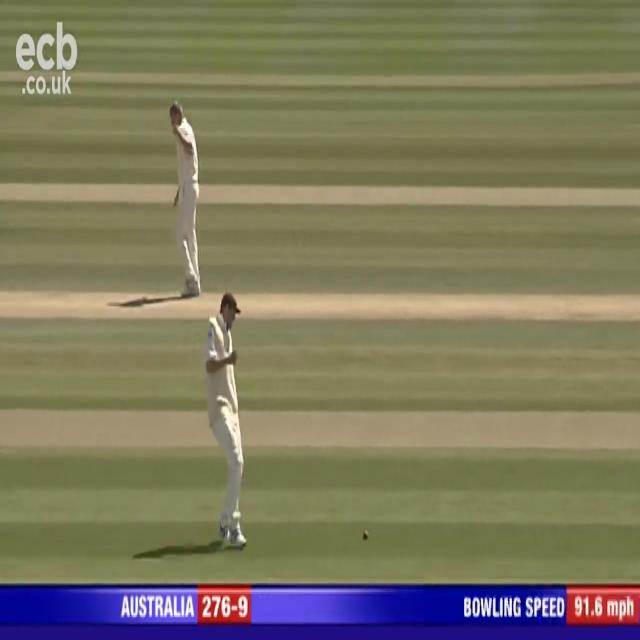ball: (358, 530, 374, 542)
